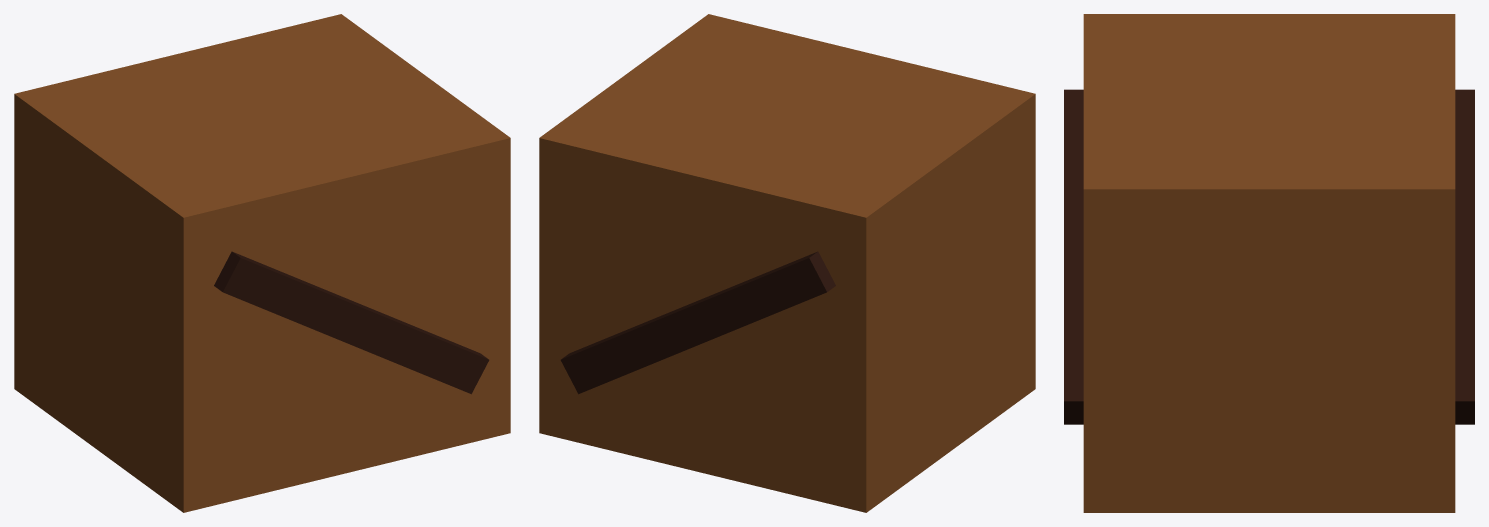
File: Extra_Crate_01.fbx
3 views of the same model, side by side, from view 1: azimuth 30°, elevation 25°; view 2: azimuth 150°, elevation 25°; view 3: azimuth 270°, elevation 25° (orthographic). The views are drawn at different scales.
Visible parts, largest first — view 1: Extra_Crate_01_Mesh; view 2: Extra_Crate_01_Mesh; view 3: Extra_Crate_01_Mesh.
Boxes of the visible parts, x1=… form: Extra_Crate_01_Mesh: x1=14, y1=14, x2=510, y2=512; Extra_Crate_01_Mesh: x1=539, y1=14, x2=1035, y2=512; Extra_Crate_01_Mesh: x1=1064, y1=14, x2=1474, y2=512.
Size of the model in its own units: 0.58 by 0.5 by 0.575.
Materials: 1 (1 with a texture image).
